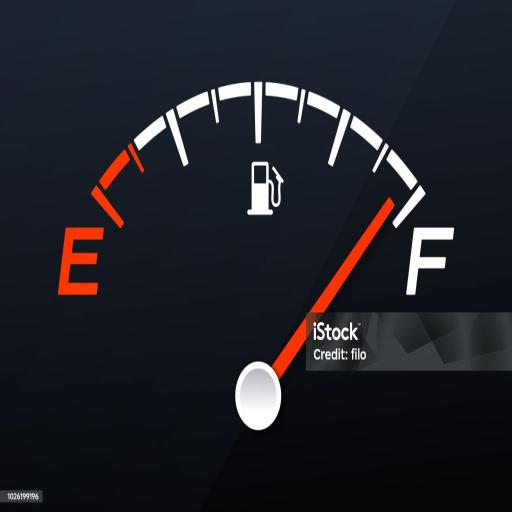empty: (53, 218, 110, 297)
fuel_icon: (246, 160, 286, 217)
full: (404, 223, 461, 294)
guage_area: (50, 74, 470, 448)
needle_center: (231, 359, 286, 437)
needle_tip: (375, 192, 399, 224)
